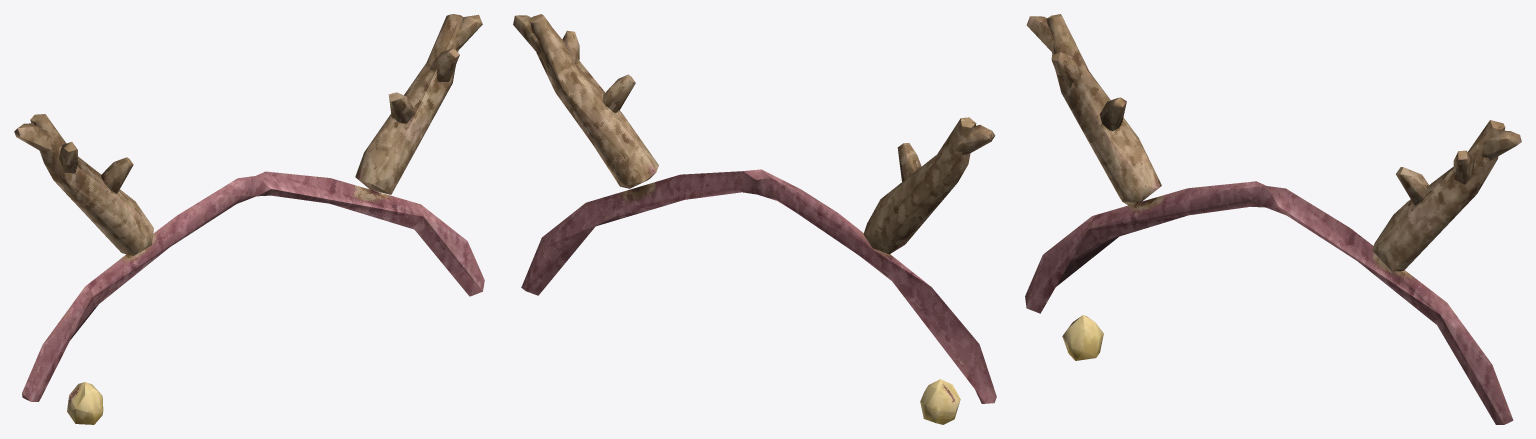
The model's file is reindeer_antlers.glb.
3 views of the same model, side by side, from view 1: azimuth 30°, elevation 25°; view 2: azimuth 150°, elevation 25°; view 3: azimuth 330°, elevation 25° (orthographic). The views are drawn at different scales.
Visible parts, largest first — view 1: reindeer_antlers_mesh; view 2: reindeer_antlers_mesh; view 3: reindeer_antlers_mesh.
Part boxes in pixels (bbox=[...]): reindeer_antlers_mesh: bbox=[14, 14, 484, 424]; reindeer_antlers_mesh: bbox=[513, 14, 996, 424]; reindeer_antlers_mesh: bbox=[1025, 14, 1521, 424].
Size of the model in its own units: 30.81 by 19.61 by 2.9.
1 material, 1 textured.
